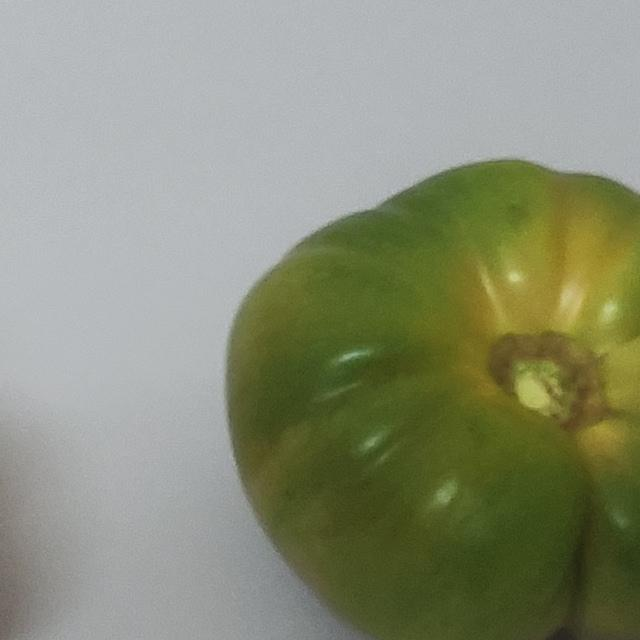tomato: (188, 164, 640, 640)
